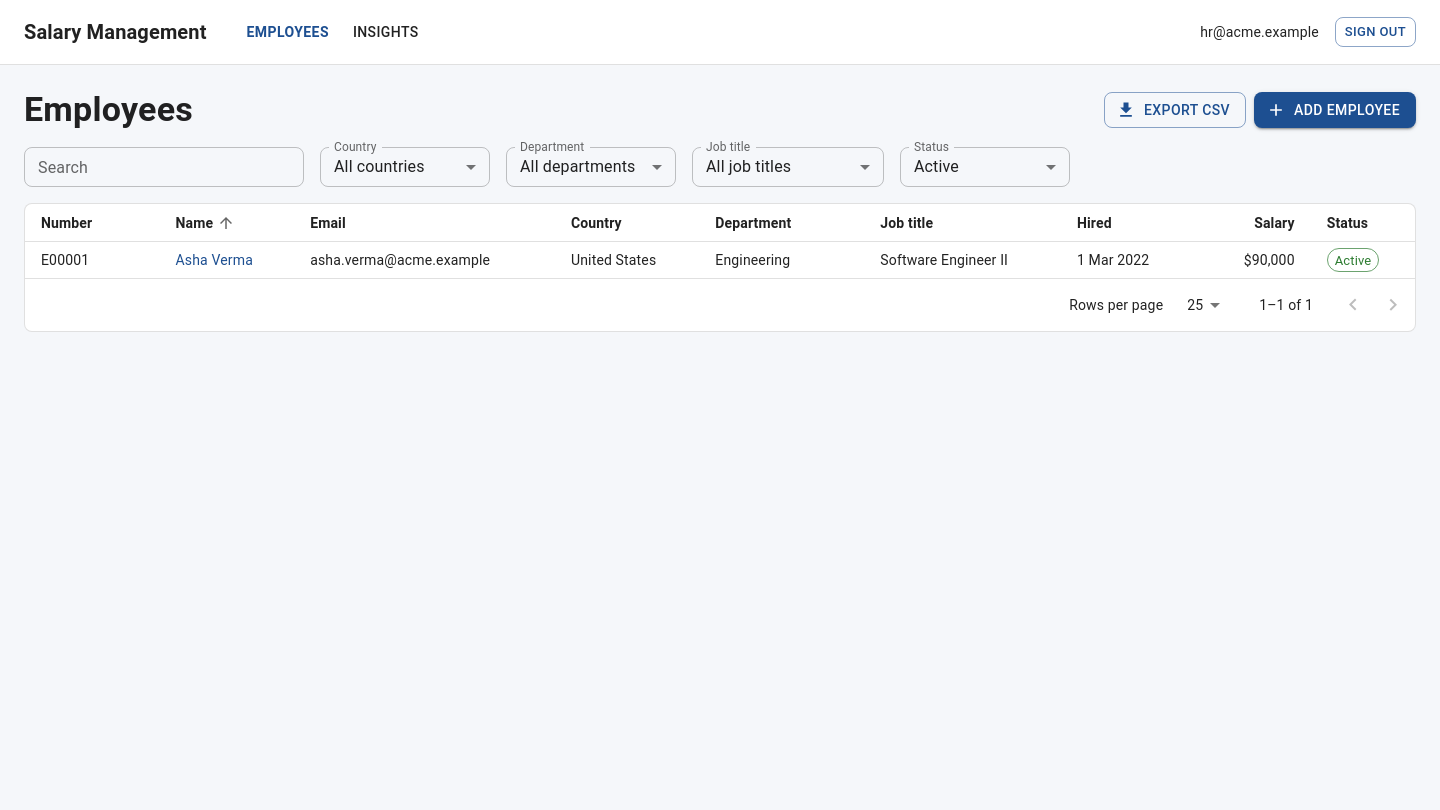
Test: adding an employee › is reached from the directory
Click the link "Add employee" at (1335, 110), box [1254,92,1416,128]
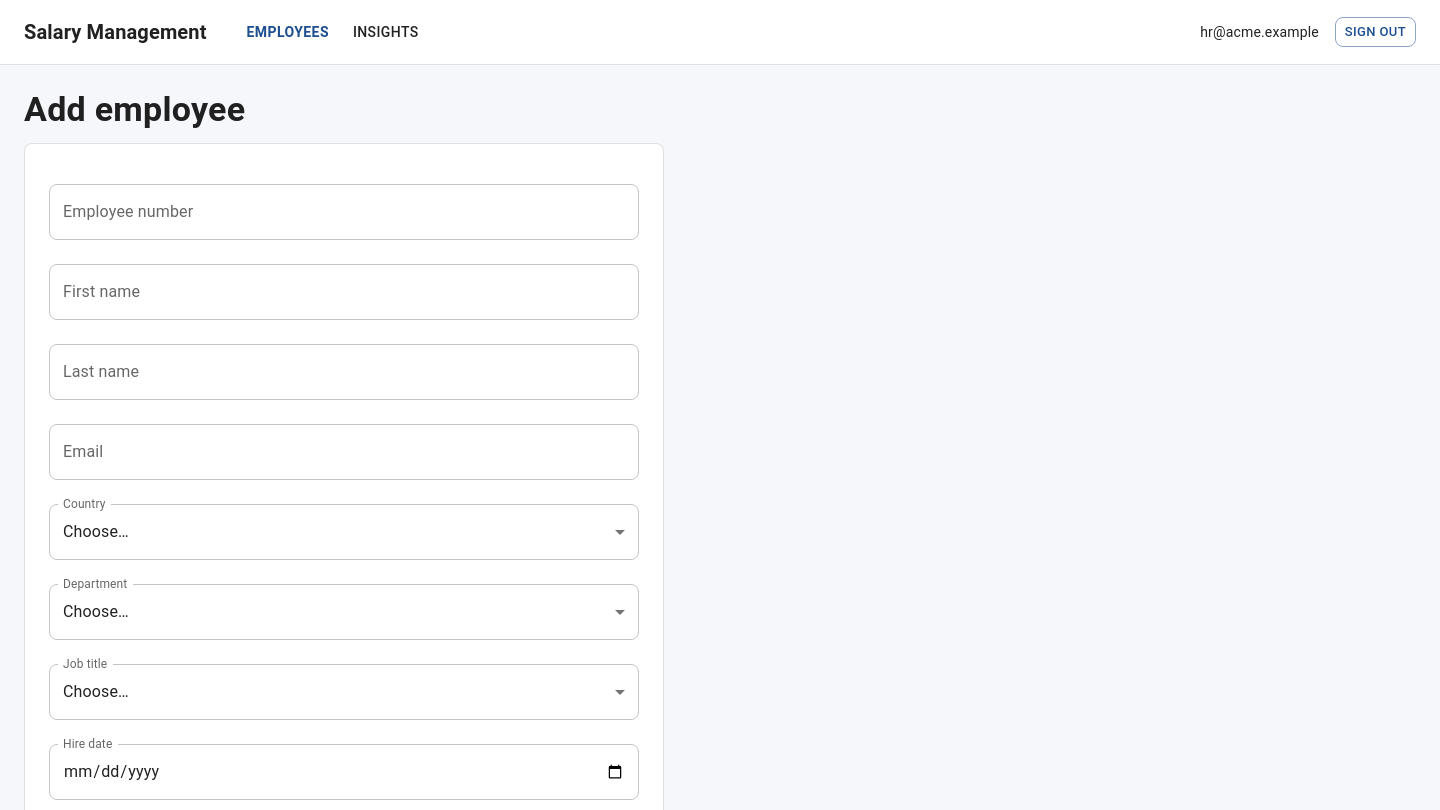
expect the heading "Add employee" is shown: met, box [24,89,245,129]
